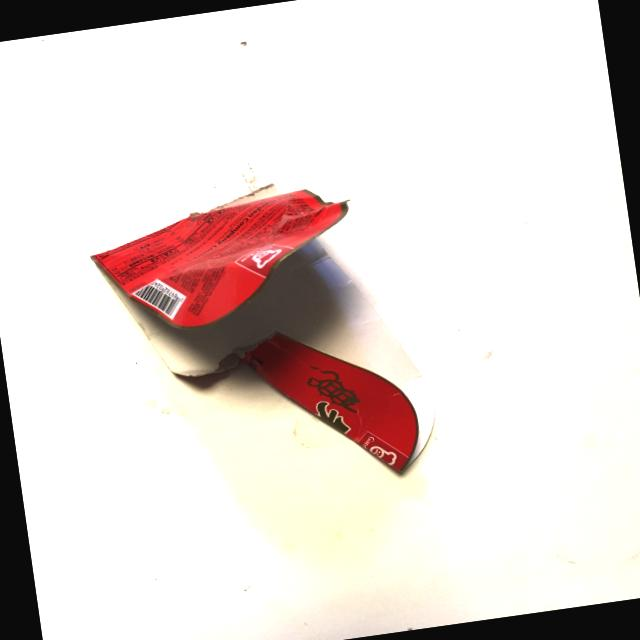Paper: (84, 166, 444, 516)
